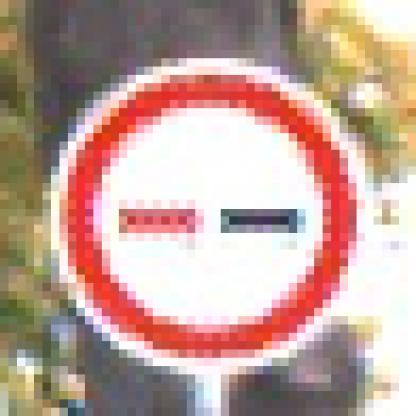No Overtaking: (44, 51, 375, 375)
